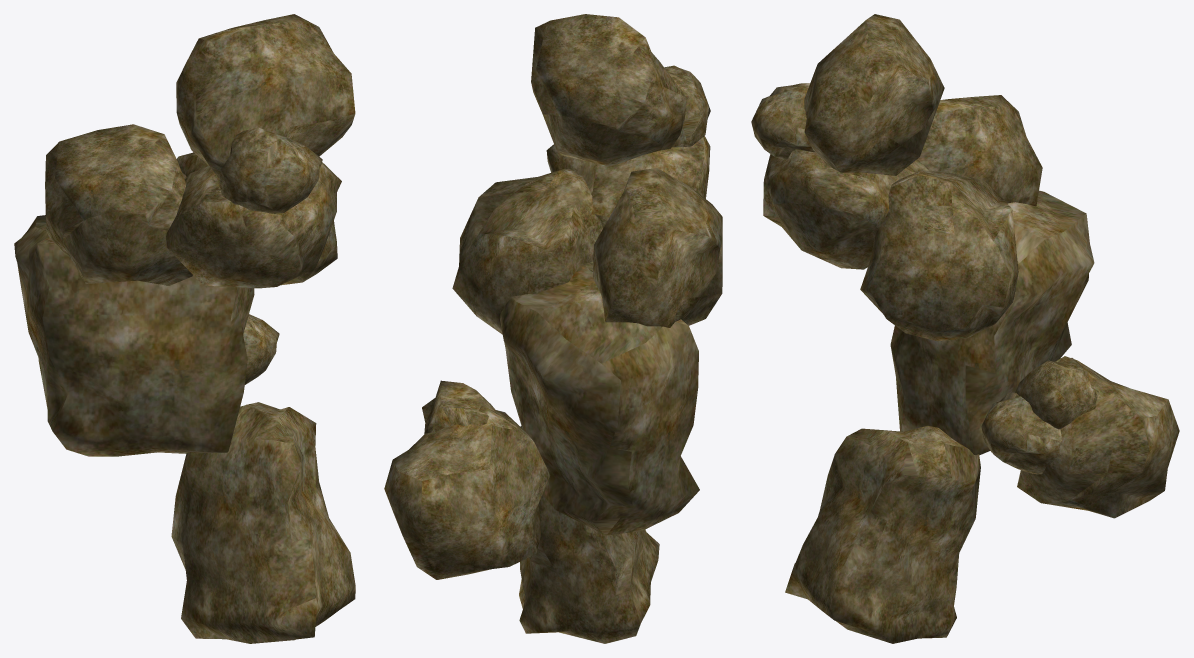
Rendered from FALLING_ROCKS.obj.
3 renders of one model, left to right at view 1: azimuth 30°, elevation 25°; view 2: azimuth 150°, elevation 25°; view 3: azimuth 270°, elevation 25°, orthographic. The views are drawn at different scales.
Visible parts, largest first — view 1: smallrock13, Box314, Box311, Box312, Box317, Box320, Box318, Box315; view 2: smallrock13, Box313, Box311, Box312, Box315, Box314, Box317, Box319, Box320; view 3: Box314, smallrock13, Box315, Box311, Box313, Box317, Box312, Box318, Box319, Box320.
Part boxes in pixels (x1,y1,x2,y2): smallrock13: (14,215,254,456); Box314: (171,402,355,643); Box311: (176,14,355,179); Box312: (45,124,192,285); Box317: (165,162,341,288); Box320: (219,127,322,213); Box318: (243,314,279,384); Box315: (176,152,337,285); smallrock13: (500,261,699,535); Box313: (384,406,550,579); Box311: (531,14,686,166); Box312: (592,168,722,327); Box315: (452,168,602,334); Box314: (519,426,659,643); Box317: (546,136,710,228); Box319: (422,380,495,433); Box320: (664,65,710,147); Box314: (785,426,980,643); smallrock13: (890,190,1094,455); Box315: (860,170,1018,341); Box311: (804,14,944,175); Box313: (1017,356,1179,518); Box317: (763,149,928,269); Box312: (917,95,1042,206); Box318: (981,392,1062,474); Box319: (1015,358,1098,429); Box320: (751,83,814,159).
Size of the model in its own units: 369 by 849 by 550.
